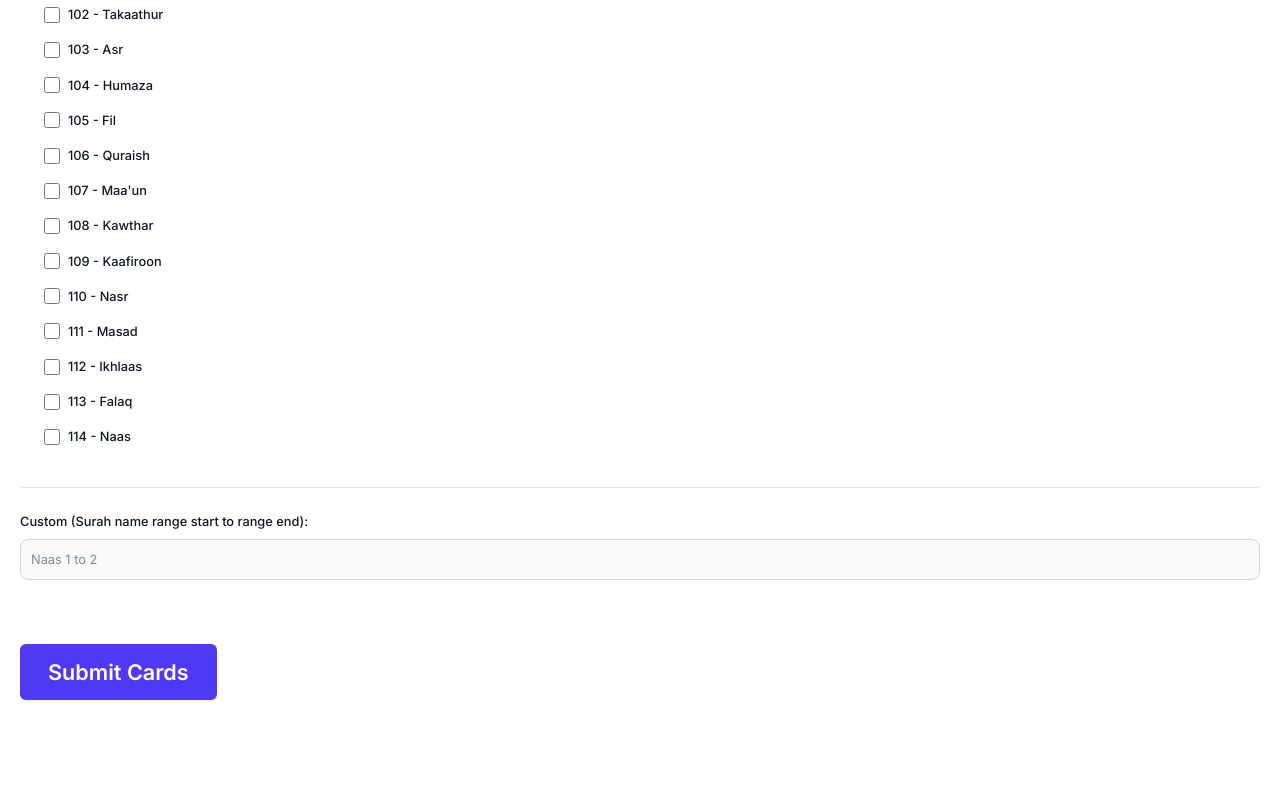
Test: Add Quran card form › Submitting › Wihout juz › should prompt with message when trying to submit empty form
(page scrolled)
What coordinates should you click on to do the following:
click the button with test id "add-cards-submit-button"
I would click on:
 (118, 672)
Its box is top-left (20, 644), bottom-right (217, 700).
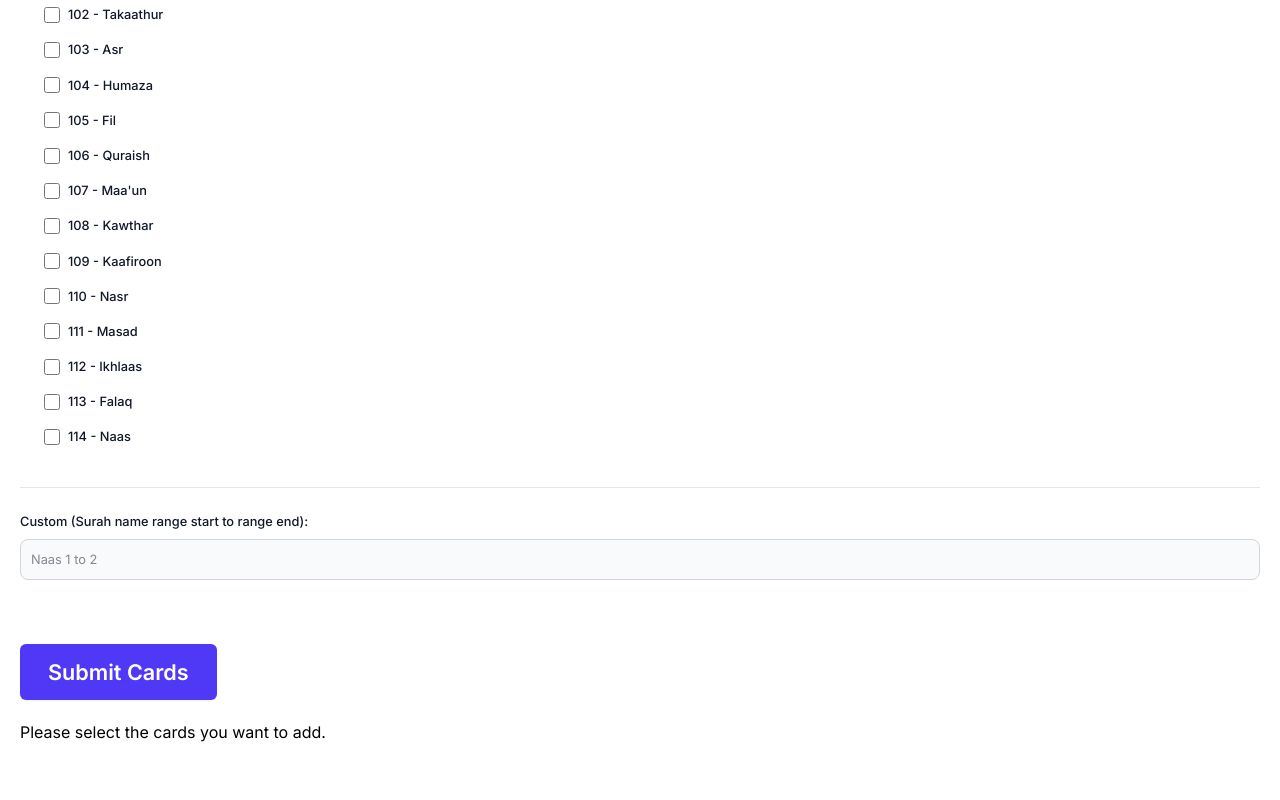
Expected: the text "Please select the cards you want to add." is shown, top-left (20, 722), bottom-right (326, 742)
